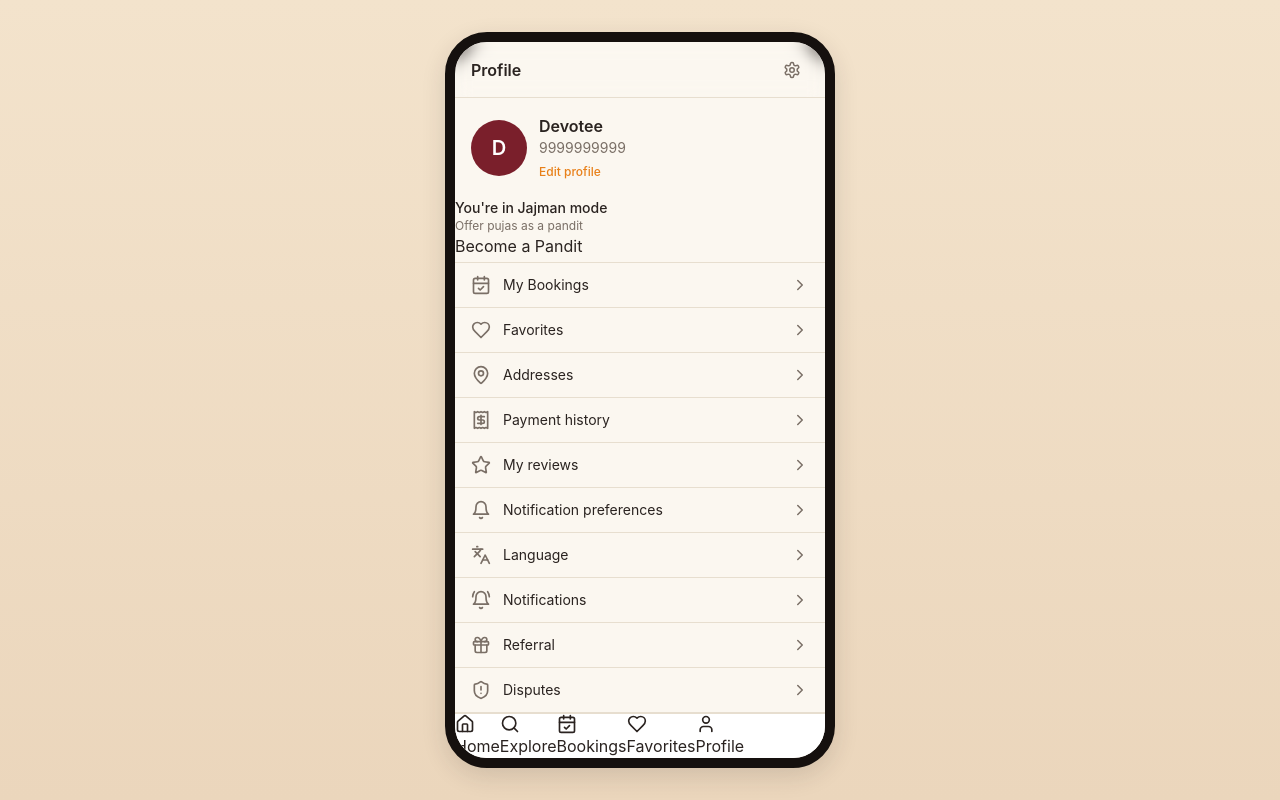
it: profile flow (integration) › Become a Pandit → clicking "Become a Pandit" from Profile lands on the onboarding intro
Click the button "Become a Pandit". click: (519, 246)
box: [455,234,582,258]
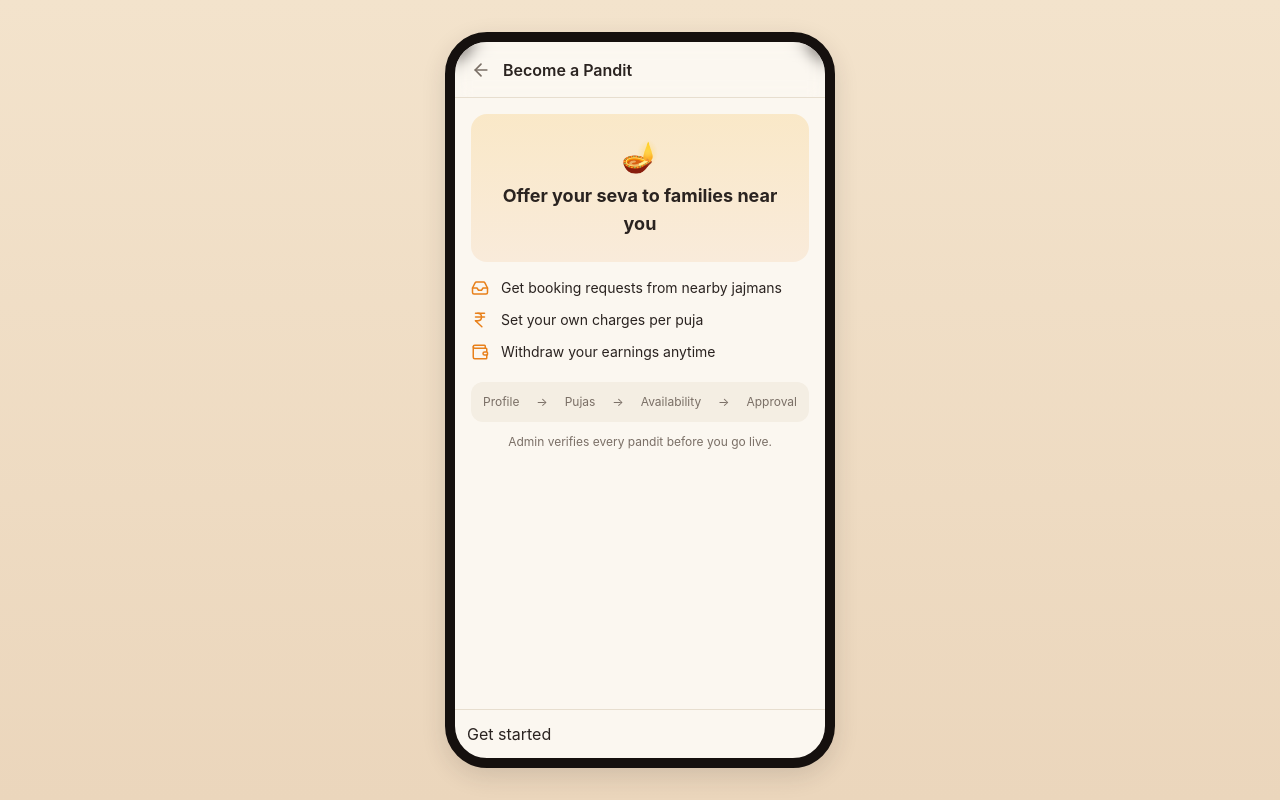
Check: the heading "Offer your seva to families near you" is shown, box [495,182,785,238]
Check: the button "Get started" is shown, box [467,722,551,746]
